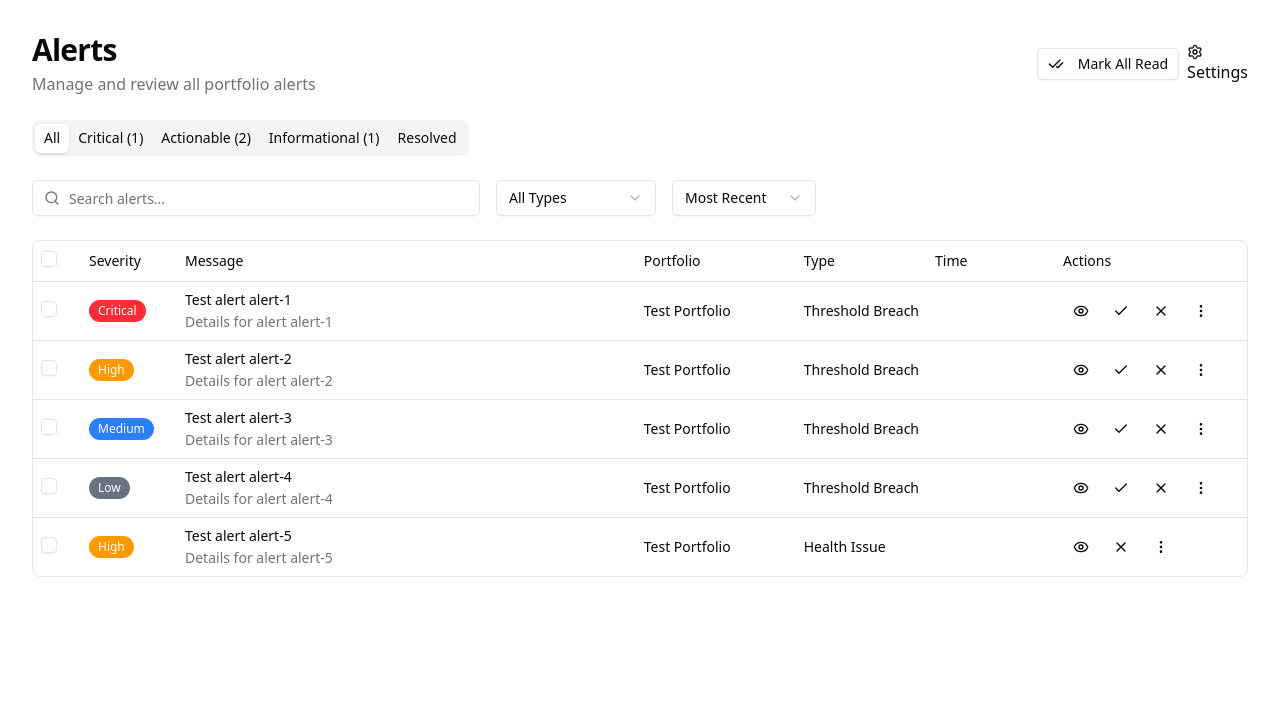
AlertsPage › Bulk Actions › shows bulk action buttons when alerts selected
The width and height of the screenshot is (1280, 720).
# Select first checkbox
Click the checkbox named "Select all alerts" at (49, 259), box [41, 251, 57, 267]
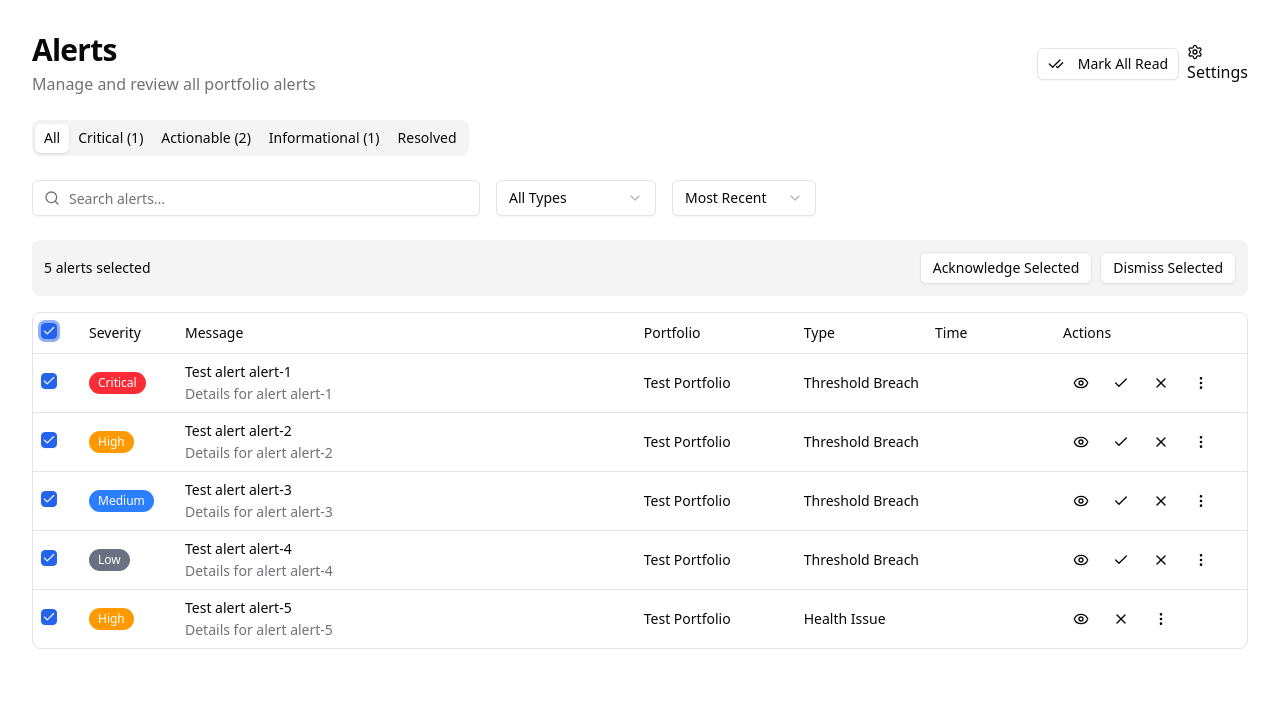
Result: the button "Acknowledge Selected" is shown at [920, 252, 1092, 284]
Result: the button "Dismiss Selected" is shown at [1100, 252, 1236, 284]
